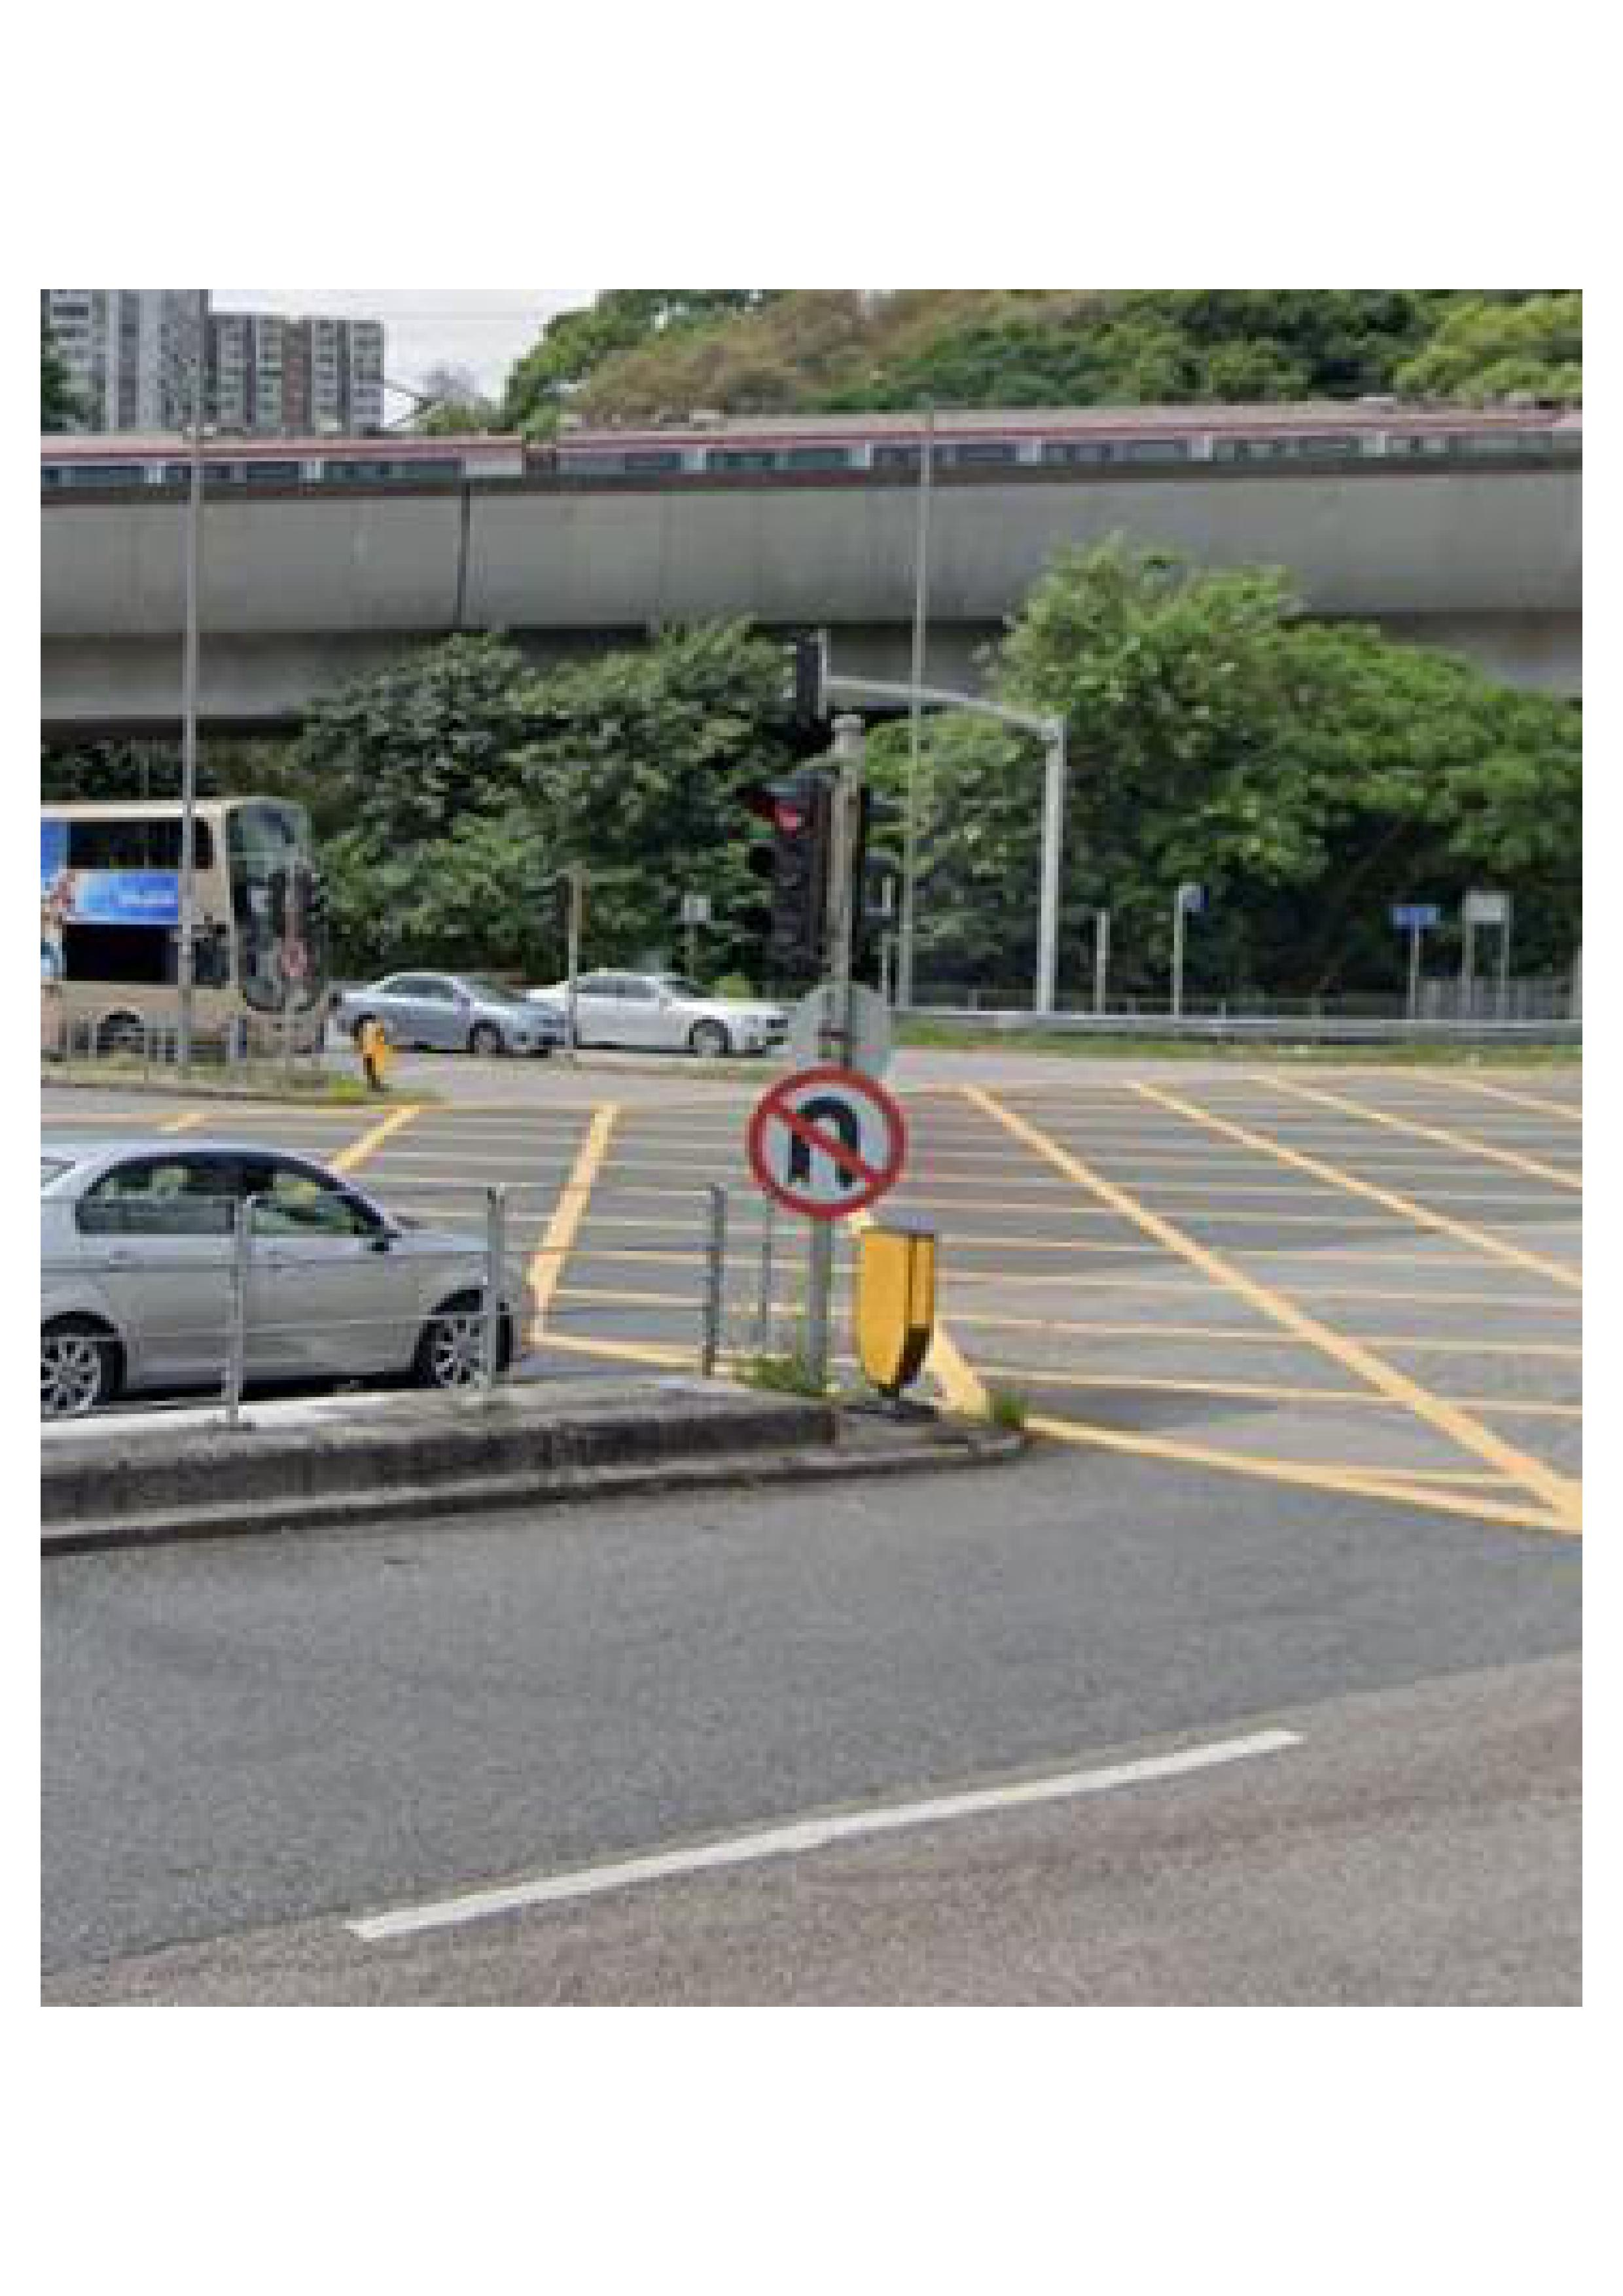No Uturn: (745, 1062, 919, 1229)
